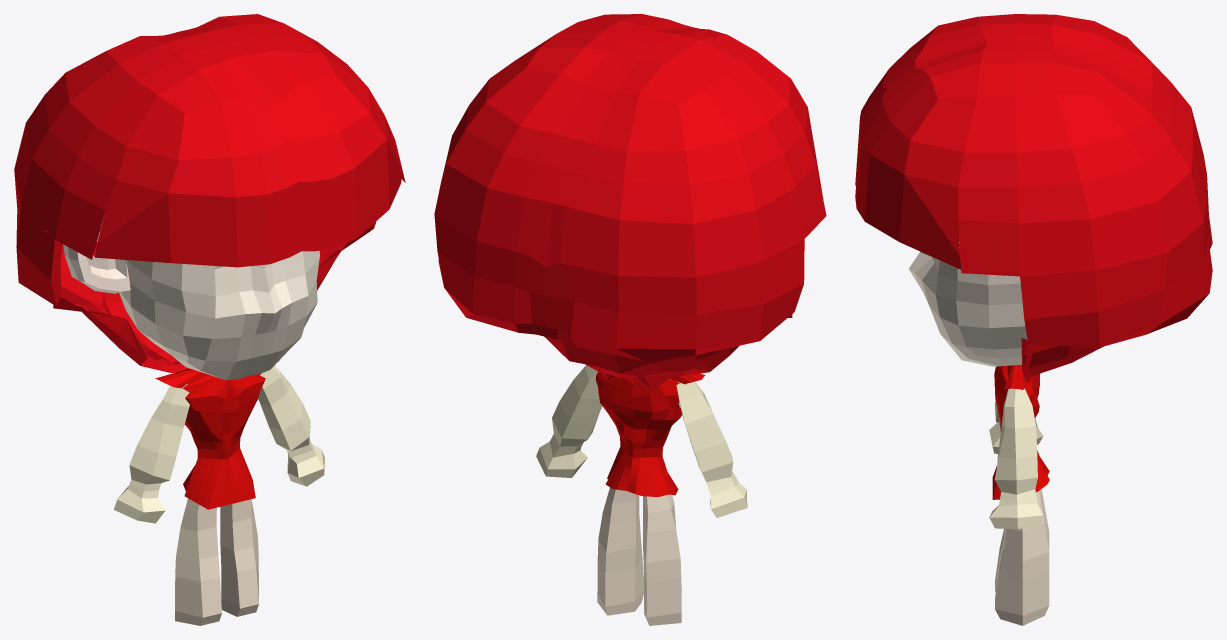
File: BOB.fbx
3 views of the same model, side by side, from view 1: azimuth 30°, elevation 25°; view 2: azimuth 150°, elevation 25°; view 3: azimuth 270°, elevation 25° (orthographic).
Parts seen in each view (by area): view 1: Cube.003, Cube.001, Cylinder.001, Cylinder, Cube, Cube.002; view 2: Cube.003, Cylinder, Cylinder.001, Cube; view 3: Cube.003, Cube.001, Cylinder.001, Cylinder, Cube.
Part boxes in pixels (left/top/right/bottom): Cube.003: left=14, top=14, right=405, bottom=372; Cube.001: left=119, top=250, right=319, bottom=380; Cylinder.001: left=113, top=365, right=324, bottom=523; Cylinder: left=175, top=498, right=258, bottom=625; Cube: left=155, top=361, right=278, bottom=509; Cube.002: left=63, top=218, right=130, bottom=293; Cube.003: left=434, top=14, right=826, bottom=390; Cylinder: left=597, top=487, right=681, bottom=625; Cylinder.001: left=536, top=365, right=747, bottom=517; Cube: left=595, top=371, right=705, bottom=496; Cube.003: left=855, top=14, right=1212, bottom=385; Cube.001: left=909, top=242, right=1027, bottom=366; Cylinder.001: left=989, top=388, right=1043, bottom=528; Cylinder: left=995, top=489, right=1049, bottom=625; Cube: left=992, top=365, right=1049, bottom=499.
Bounding box in the file's own units: 1063 × 1736 × 997.
